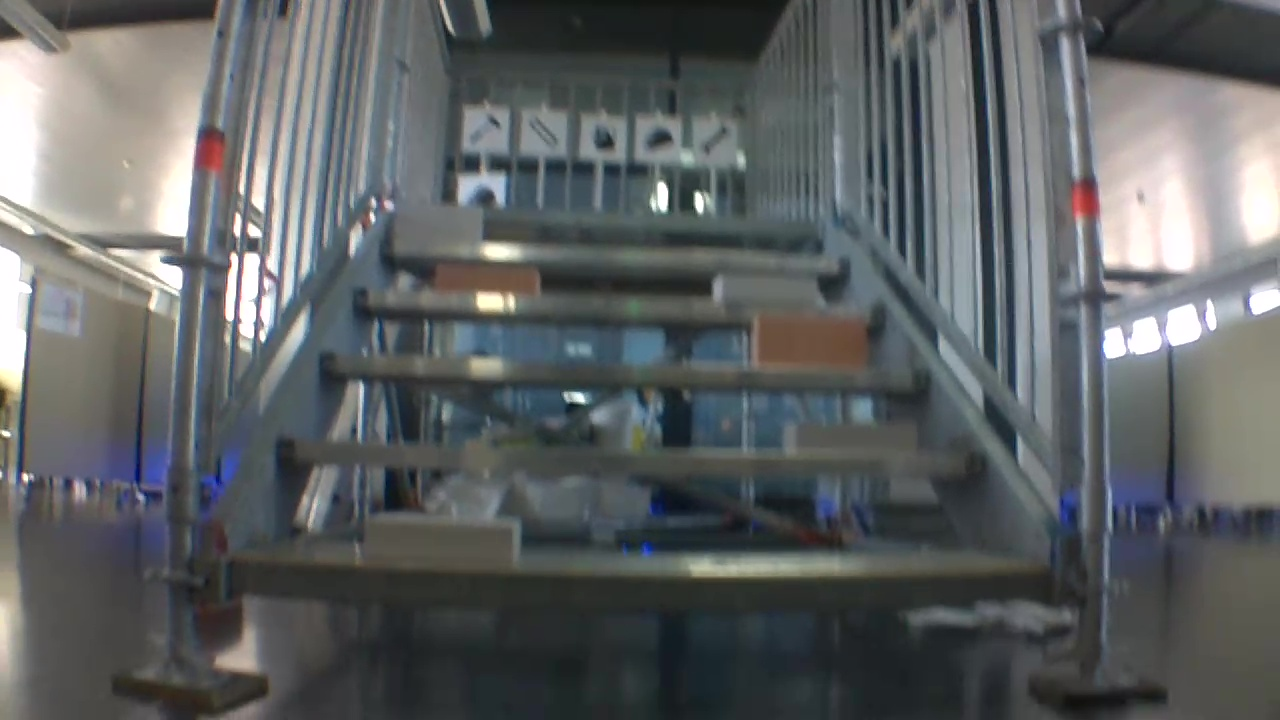brick: (360, 514, 525, 566), (749, 322, 869, 366), (784, 416, 920, 449), (388, 207, 486, 243), (440, 264, 548, 290), (707, 281, 812, 302)
bucket: (591, 122, 615, 149)
edge: (232, 550, 1056, 604), (273, 436, 983, 478), (311, 352, 933, 390), (350, 287, 876, 317), (376, 242, 856, 263), (399, 212, 821, 225)
hammer: (470, 110, 505, 144)
ruler: (526, 119, 558, 144)
stairs: (174, 0, 1106, 703)
steps: (207, 212, 1059, 612)
taco: (647, 122, 673, 147), (470, 181, 492, 204)
wrench: (699, 123, 731, 156)
